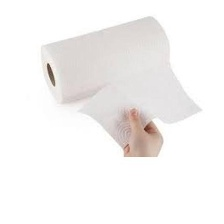tissue: (35, 10, 207, 154)
